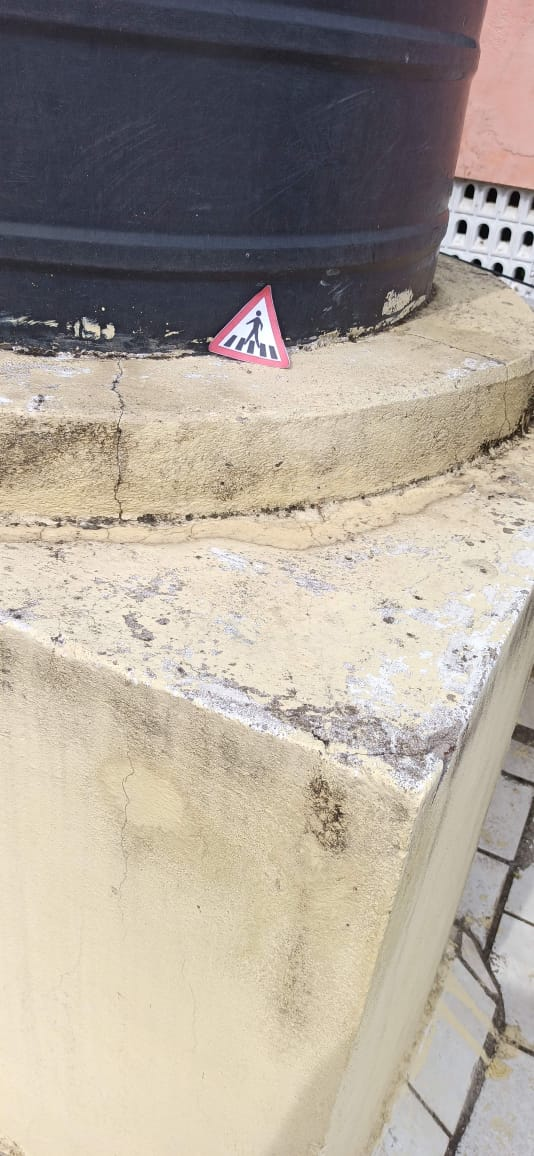PEDESTRIAN CROSSING: (203, 270, 299, 378)
